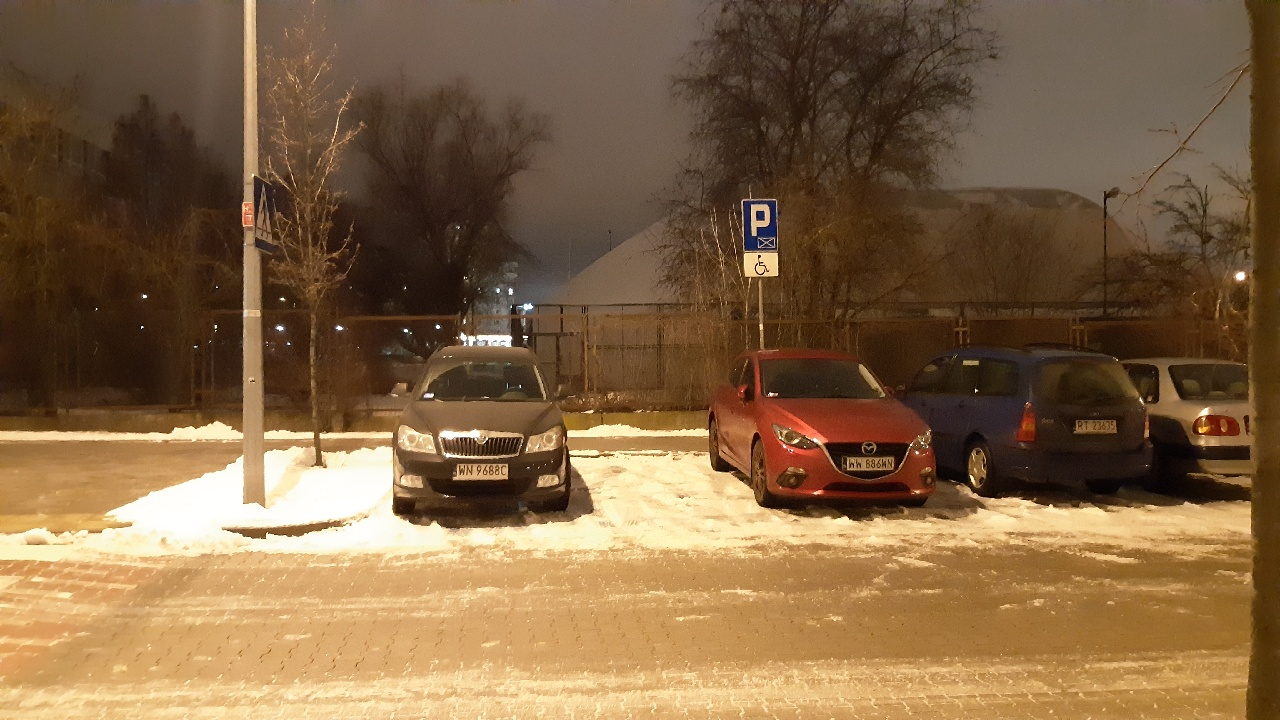D18: (735, 194, 789, 250)
